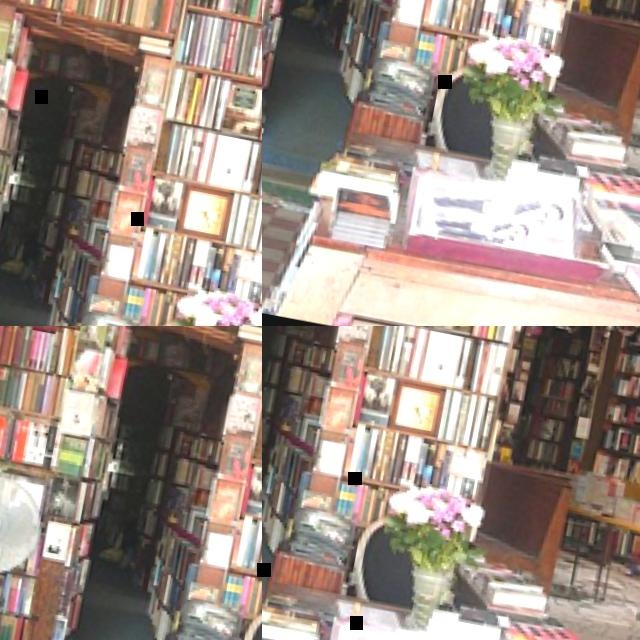machinery: (0, 172, 196, 326)
